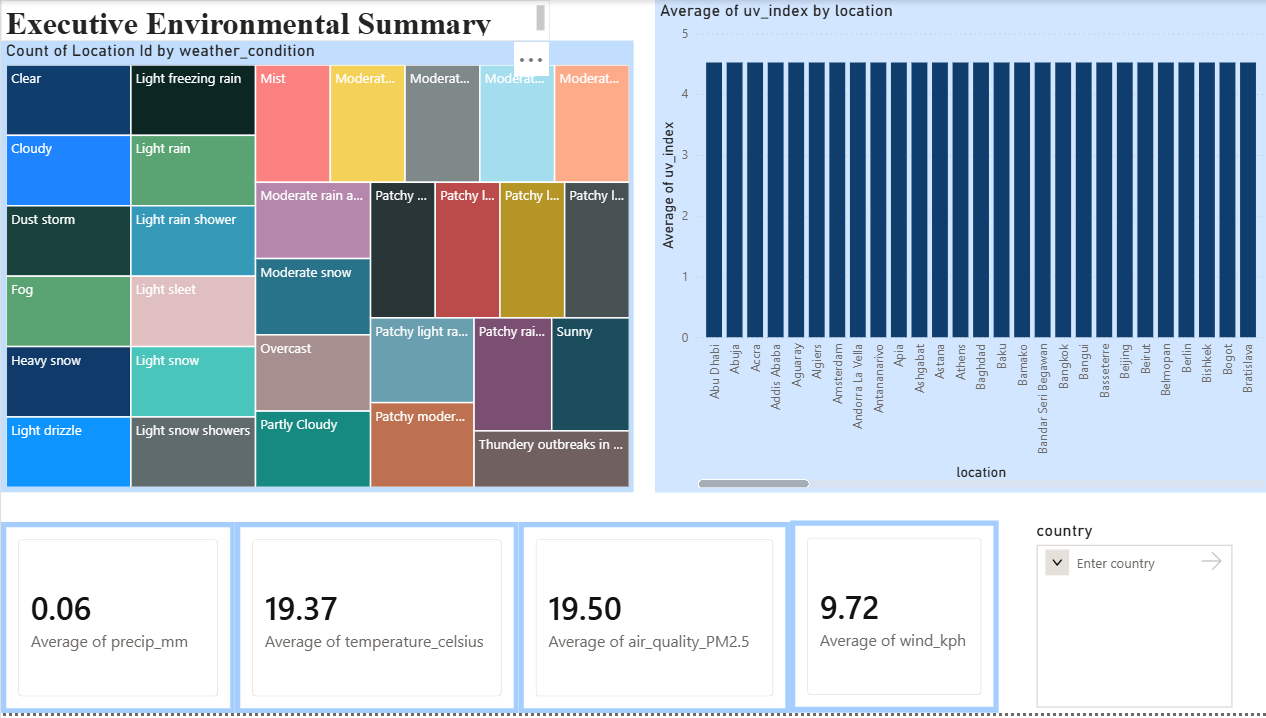

The page's visual inventory and layout, read from the dashboard file:
{"tool":"powerbi","page":{"name":"Page 1","canvas":[1280,720],"ordinal":0},"visuals":[{"type":"cardVisual","fields":{"Data":["Avg(GlobalWeatherRepository.temperature_celsius)"]},"box":[236.2,526.9,286.2,193.8],"z":1},{"type":"cardVisual","fields":{"Data":["Avg(Fact_Weather.air_quality_PM2.5)"]},"box":[522.4,526.9,274.1,193.8],"z":2},{"type":"cardVisual","fields":{"Data":["Avg(Fact_Weather.precip_mm)"]},"box":[0,526.9,236.2,193.8],"z":3},{"type":"cardVisual","fields":{"Data":["Avg(Fact_Weather.wind_kph)"]},"box":[796.5,525.4,210.5,193.8],"z":4},{"type":"clusteredBarChart","fields":{"Category":["Dim_Location.location"],"Y":["Avg(GlobalWeatherRepository.uv_index)"]},"box":[660.6,0,620.2,497.1],"z":5},{"type":"treemap","fields":{"Group":["GlobalWeatherRepository.weather_condition"],"Values":["CountNonNull(Fact_Weather.Location Id)"]},"box":[0,40.9,639,455.8],"z":6},{"type":"textbox","box":[0,0,553.8,40.5],"z":8},{"type":"textSlicer","fields":{"Values":["Dim_Location.country"]},"box":[1040.3,525.4,207.4,193.8],"z":9}]}

Visuals, with their boxes in screenshot pixels (x1, y1, x2, y2), scaled from the page's 1280x720 canvas onto the 1266x718 screenshot:
cardVisual - Avg(GlobalWeatherRepository.temperature_celsius): bbox=(234, 525, 517, 717)
cardVisual - Avg(Fact_Weather.air_quality_PM2.5): bbox=(517, 525, 788, 717)
cardVisual - Avg(Fact_Weather.precip_mm): bbox=(0, 525, 234, 717)
cardVisual - Avg(Fact_Weather.wind_kph): bbox=(788, 524, 996, 717)
clusteredBarChart - Dim_Location.location x Avg(GlobalWeatherRepository.uv_index): bbox=(653, 0, 1265, 496)
treemap - GlobalWeatherRepository.weather_condition x CountNonNull(Fact_Weather.Location Id): bbox=(0, 41, 632, 495)
textbox: bbox=(0, 0, 548, 40)
textSlicer - Dim_Location.country: bbox=(1029, 524, 1234, 717)
